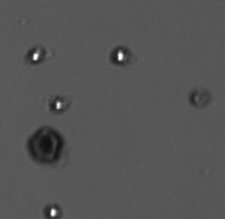Dead Cell: (27, 126, 64, 164), (191, 88, 211, 108)
Living Cell: (111, 46, 131, 65), (28, 47, 45, 64), (51, 97, 67, 113), (45, 204, 62, 219)
